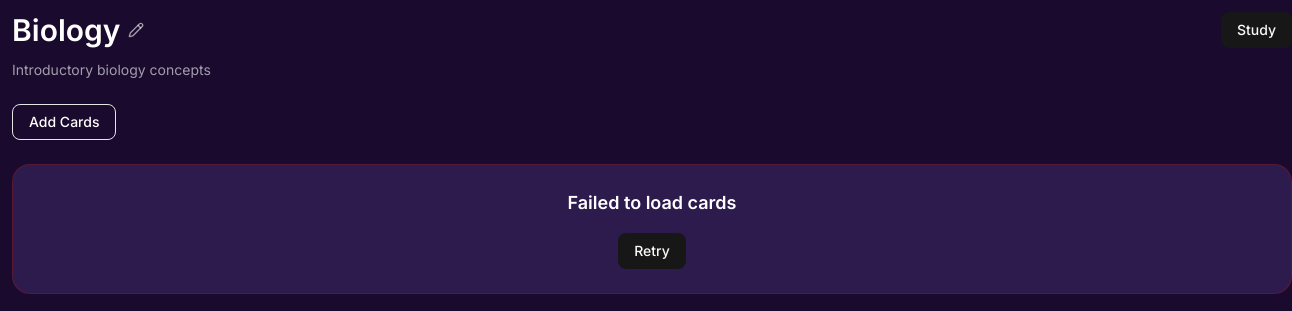
Test: DeckDetailView › shows a retry state when cards fail to load
The image size is (1292, 311).
Expected: the text "Failed to load cards" is shown, [568, 192, 736, 213]
Click the button "Retry" at point(652, 251), box [618, 233, 686, 269]
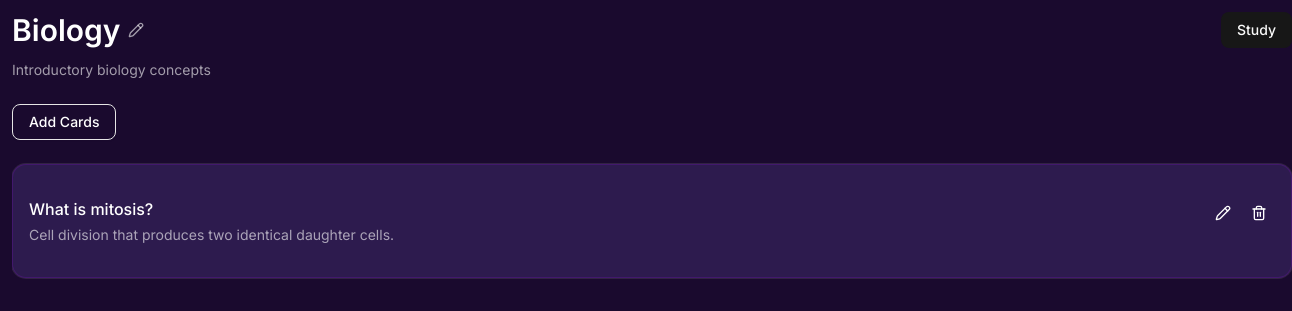
Expected: the text "What is mitosis?" is shown, [29, 199, 153, 219]
